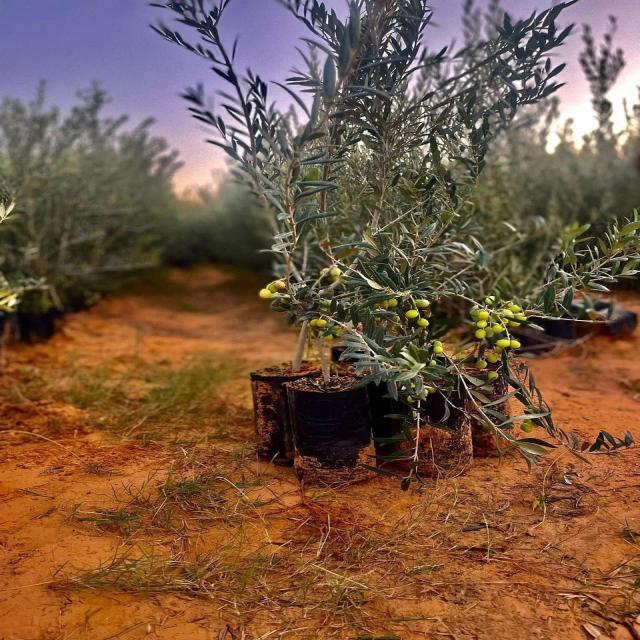Healthy: (470, 296, 526, 349), (259, 280, 287, 299), (308, 318, 331, 330), (520, 420, 538, 432), (432, 340, 443, 356), (404, 309, 419, 320), (415, 300, 430, 310), (475, 358, 487, 370), (416, 317, 429, 328)
